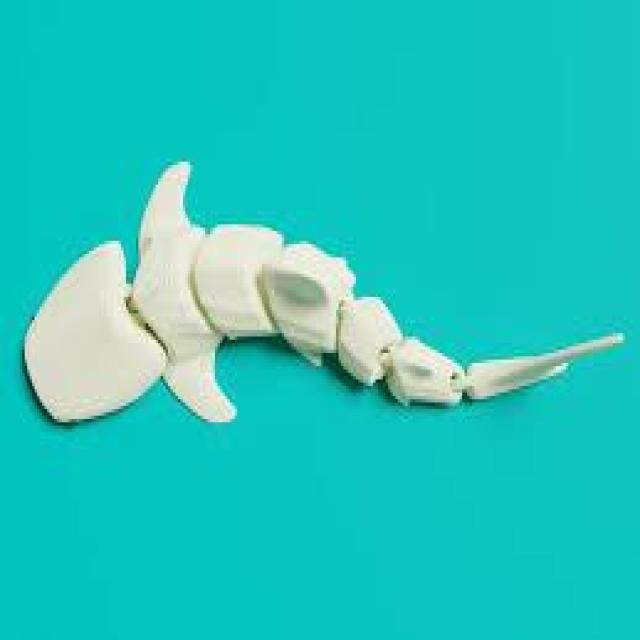Without deffect: (17, 145, 633, 452)
